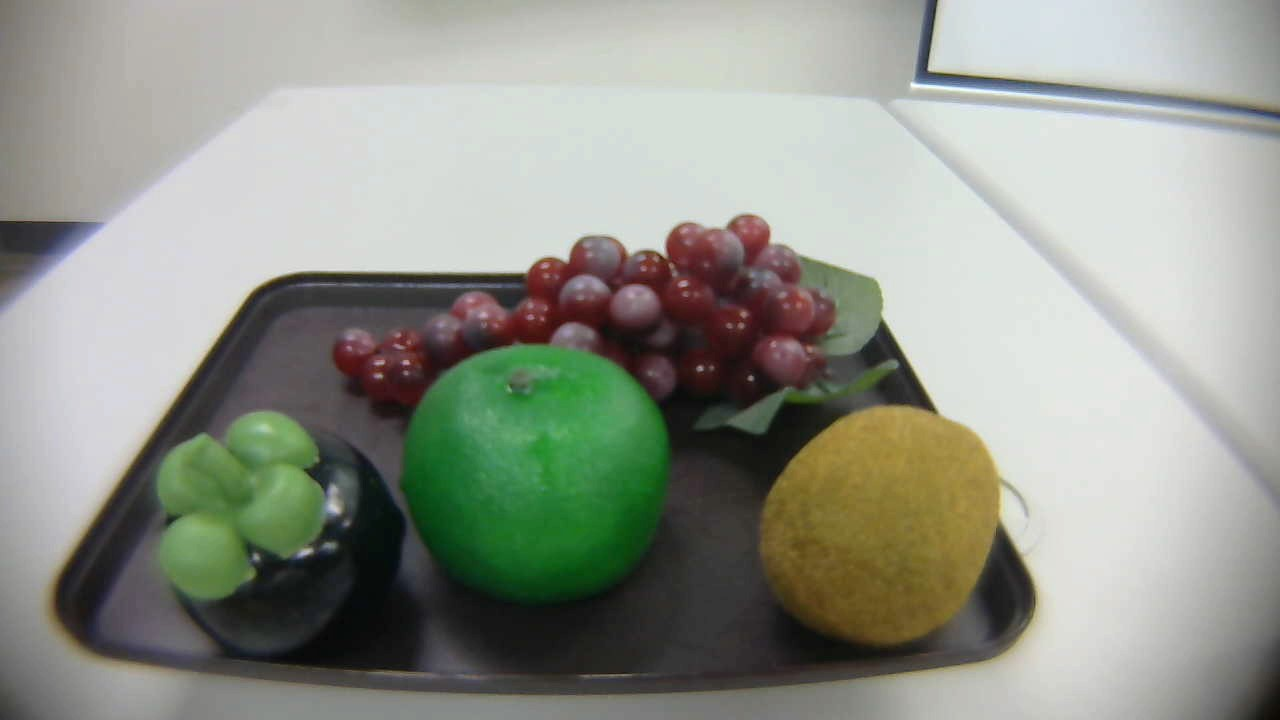grape: (332, 214, 915, 434)
green orange: (387, 343, 677, 604)
kiwi fruit: (752, 398, 1025, 661)
mangosteen: (142, 414, 410, 661)
